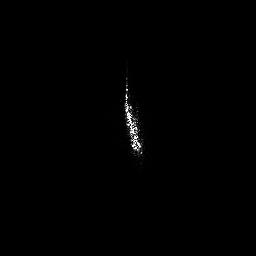ship: (121, 71, 146, 161)
